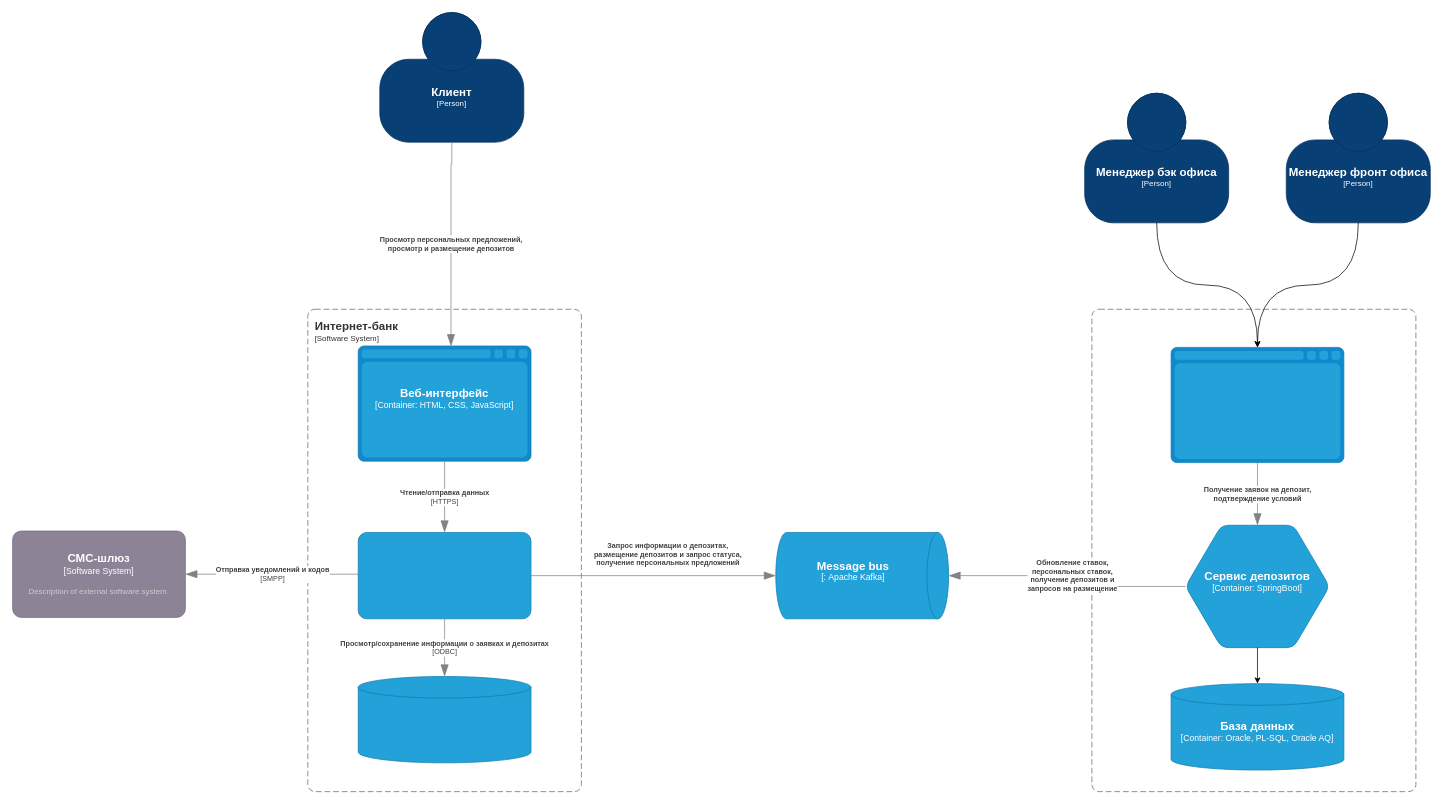
This 1443x804 diagram has some shape labels left out. Here are the shapes that lost their labels. From the top down, the box of each, then its label:
(1170, 347, 1344, 463): Интерфейс [Container: Delphi]
(1091, 309, 1416, 792): АБС [Software System]
(357, 532, 531, 619): Приложение интернет-банка [Container: ASP.NET MVC 4.5, .NET Framework 4.5]
(357, 676, 531, 763): База данных интернет банка [Container: MS-SQL]
